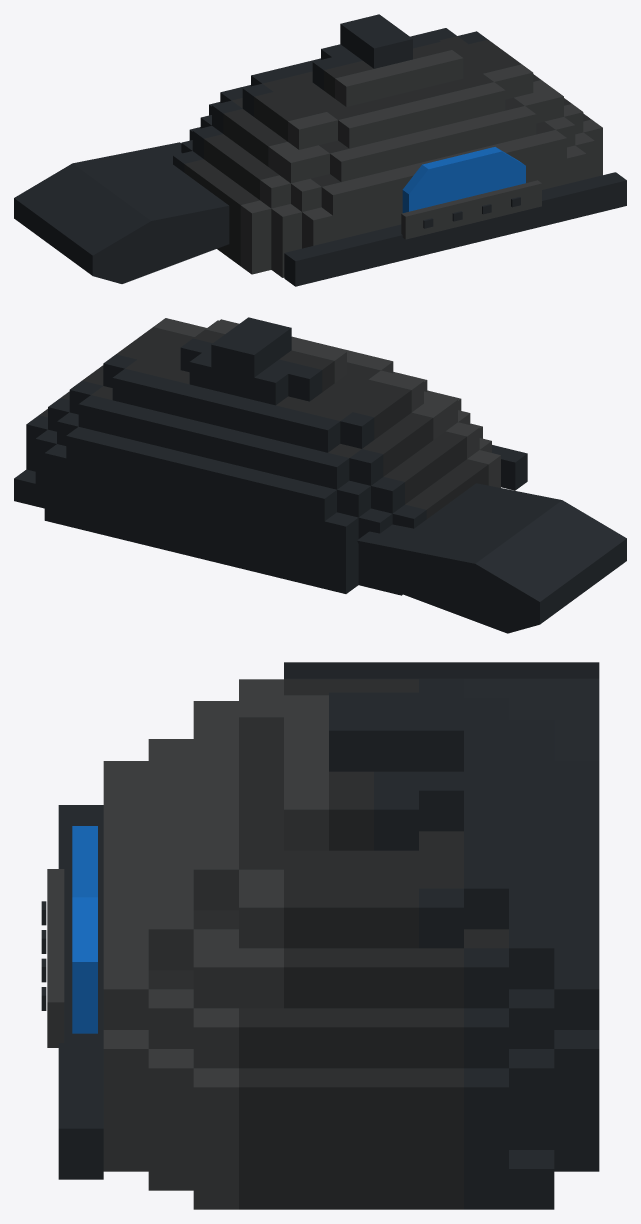
The model's file is the_ones_hair.glb.
The picture shows the model from 3 angles, top to bottom: view 1: azimuth 30°, elevation 25°; view 2: azimuth 150°, elevation 25°; view 3: azimuth 270°, elevation 25°; orthographic projection. The views are drawn at different scales.
Parts seen in each view (by area): view 1: the_ones_Hair.001; view 2: the_ones_Hair.001; view 3: the_ones_Hair.001.
Boxes of the visible parts, <box> form: the_ones_Hair.001: <box>14,14,626,286</box>; the_ones_Hair.001: <box>14,317,626,633</box>; the_ones_Hair.001: <box>41,662,599,1209</box>.
Size of the model in its own units: 1.07 by 0.5143 by 0.5304.
4 materials, 4 textured.
